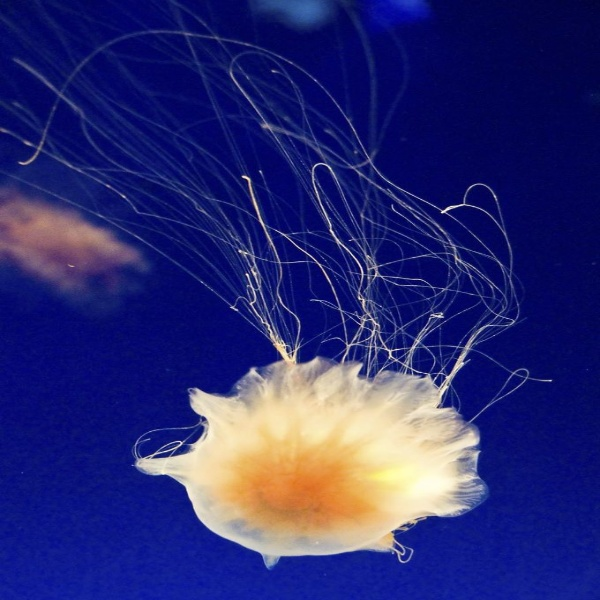Jellyfish: (0, 4, 550, 570)
